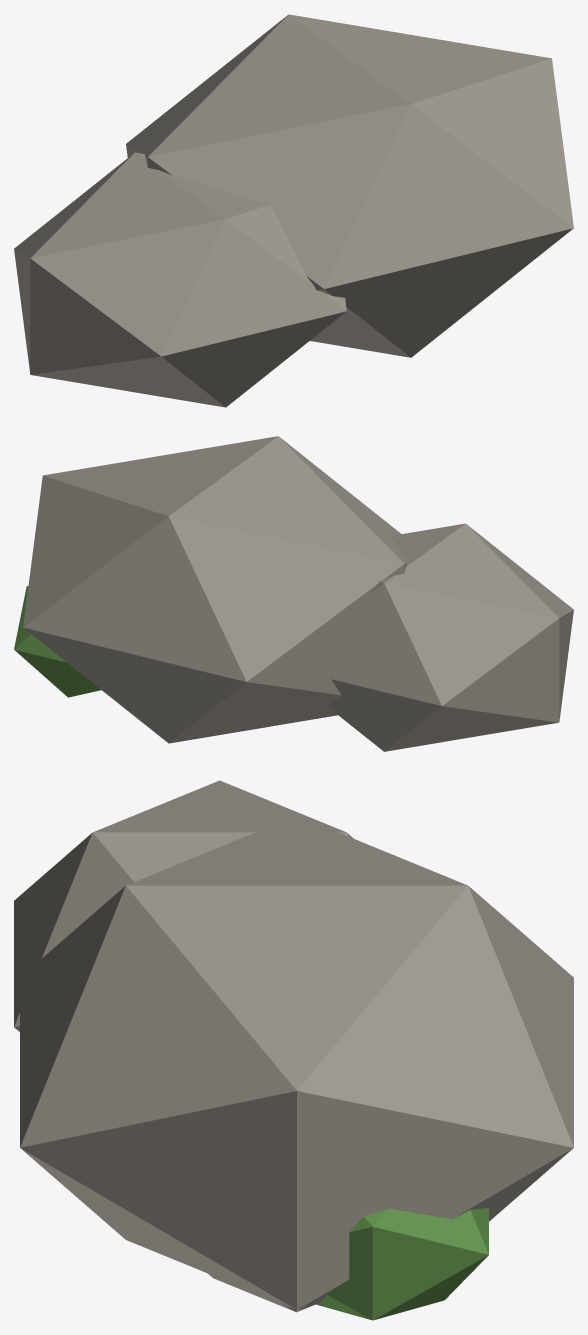
File: Kir_kaya_1_Hafif.fbx
The picture shows the model from 3 angles, top to bottom: view 1: azimuth 30°, elevation 25°; view 2: azimuth 150°, elevation 25°; view 3: azimuth 270°, elevation 25°; orthographic projection. The views are drawn at different scales.
Parts seen in each view (by area): view 1: Kir_kaya_1_Hafif; view 2: Kir_kaya_1_Hafif; view 3: Kir_kaya_1_Hafif.
Boxes of the visible parts, x1=… form: Kir_kaya_1_Hafif: x1=14, y1=14, x2=573, y2=407; Kir_kaya_1_Hafif: x1=14, y1=436, x2=573, y2=751; Kir_kaya_1_Hafif: x1=14, y1=780, x2=573, y2=1320.
Size of the model in its own units: 1.62 by 0.7145 by 1.02.
